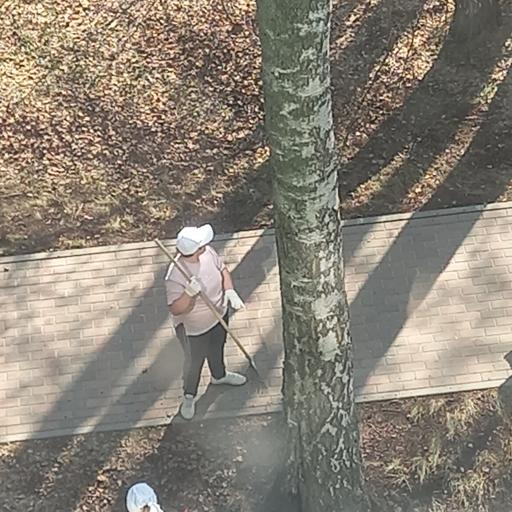Humans: (150, 216, 249, 425)
